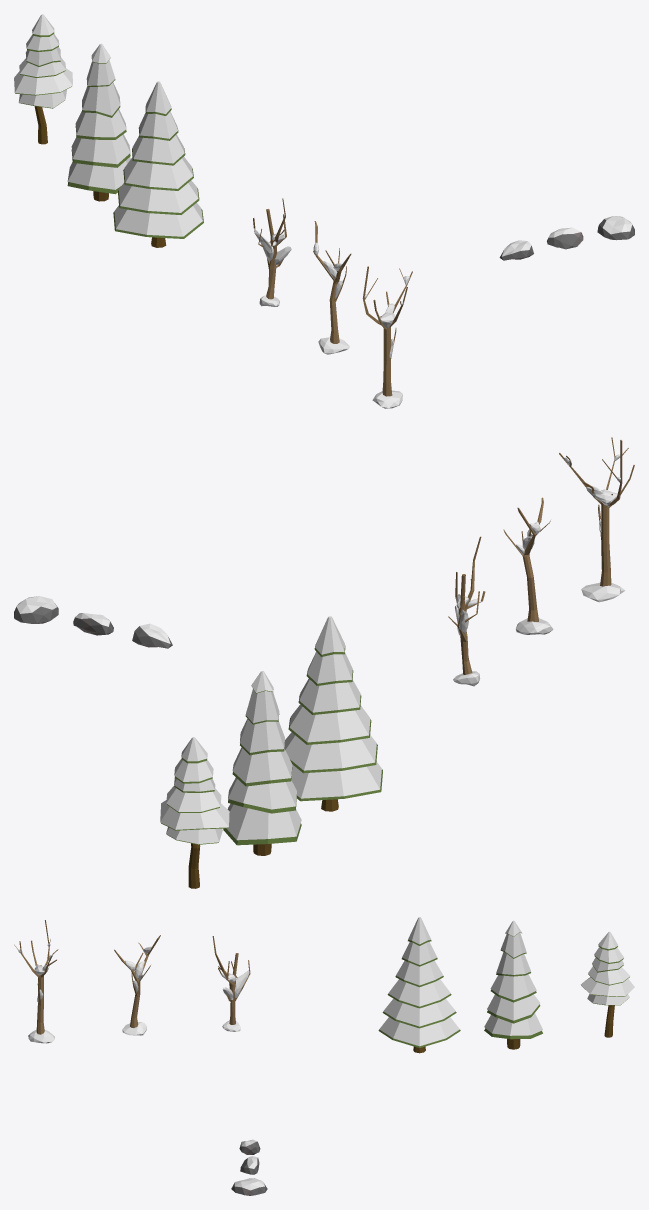
The model's file is Trees Asset.fbx.
The picture shows the model from 3 angles, top to bottom: view 1: azimuth 30°, elevation 25°; view 2: azimuth 150°, elevation 25°; view 3: azimuth 270°, elevation 25°; orthographic projection. The views are drawn at different scales.
Visible parts, largest first — view 1: ElkaSnow, Elka_2Snow, Elka_3Snow, Tree 3Snow, Tree_2Snow, TreeWinter, Rock_1, Rock_3; view 2: ElkaSnow, Elka_2Snow, Elka_3Snow, Tree 3Snow, Tree_2Snow, TreeWinter, Rock_1, Rock_2, Rock_3; view 3: ElkaSnow, Elka_2Snow, Elka_3Snow, Tree 3Snow, Tree_2Snow, TreeWinter, Rock_1.
Part boxes in pixels (box(x1,y1,x2,y2)): ElkaSnow: box(113, 81, 203, 247); Elka_2Snow: box(67, 43, 130, 201); Elka_3Snow: box(14, 14, 72, 144); Tree 3Snow: box(362, 266, 412, 408); Tree_2Snow: box(313, 221, 351, 354); TreeWinter: box(253, 198, 291, 306); Rock_1: box(597, 216, 634, 240); Rock_3: box(547, 227, 583, 249); ElkaSnow: box(284, 616, 382, 811); Elka_2Snow: box(223, 671, 301, 855); Elka_3Snow: box(160, 737, 229, 888); Tree 3Snow: box(559, 437, 634, 602); Tree_2Snow: box(503, 497, 553, 634); TreeWinter: box(448, 536, 485, 686); Rock_1: box(14, 596, 58, 623); Rock_2: box(132, 623, 172, 648); Rock_3: box(73, 613, 113, 635); ElkaSnow: box(378, 917, 460, 1053); Elka_2Snow: box(484, 920, 542, 1049); Elka_3Snow: box(580, 931, 634, 1037); Tree 3Snow: box(14, 920, 58, 1043); Tree_2Snow: box(114, 935, 160, 1035); TreeWinter: box(212, 936, 250, 1031); Rock_1: box(231, 1178, 267, 1195).
Bounding box in the file's own units: 2074 × 784 × 3302.
